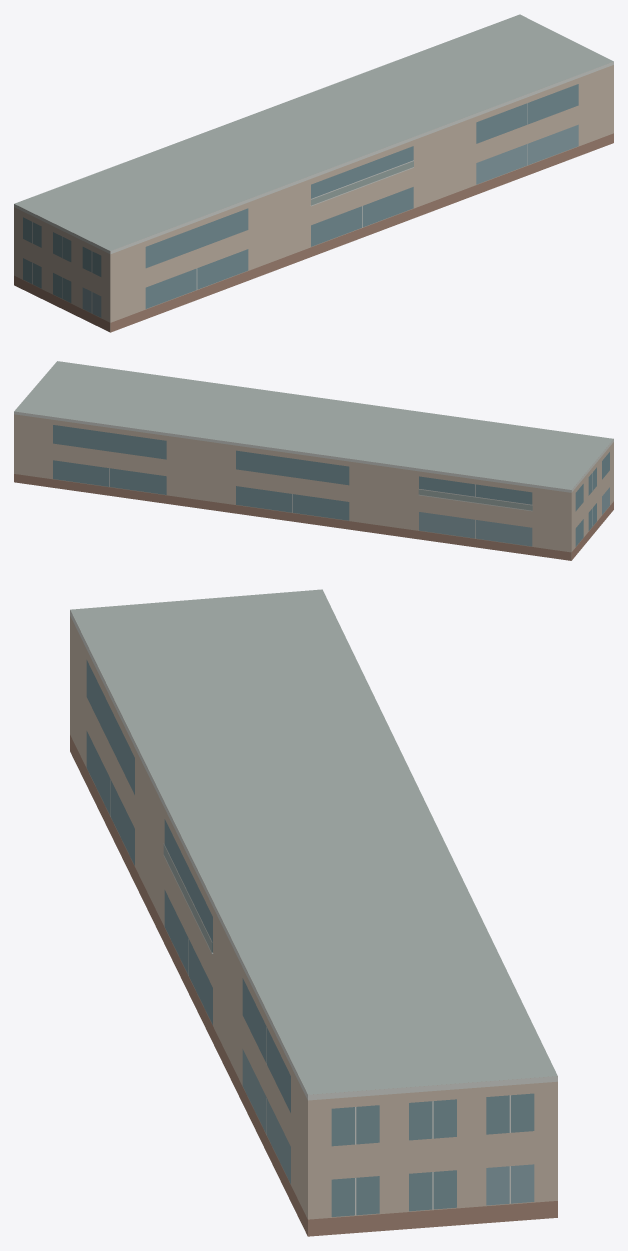
The model's file is survey-upis-32616079.glb.
3 renders of one model, top to bottom at view 1: azimuth 30°, elevation 25°; view 2: azimuth 150°, elevation 25°; view 3: azimuth 270°, elevation 25°, orthographic. The views are drawn at different scales.
Parts seen in each view (by area): view 1: survey-upis-32616079.tmp; view 2: survey-upis-32616079.tmp; view 3: survey-upis-32616079.tmp.
Boxes of the visible parts, bbox=[...] form: survey-upis-32616079.tmp: bbox=[14, 14, 613, 332]; survey-upis-32616079.tmp: bbox=[14, 361, 613, 560]; survey-upis-32616079.tmp: bbox=[70, 589, 557, 1236].
Bounding box in the file's own units: 46.67 × 6.1 × 19.04.
